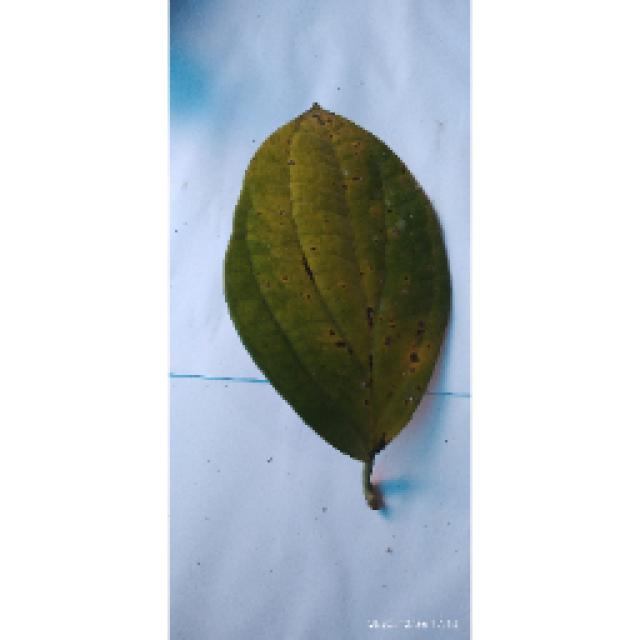slow-decline: (210, 90, 455, 505)
